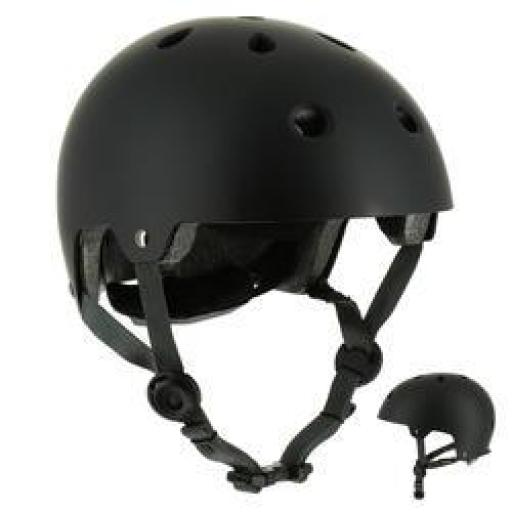with helmet: (26, 42, 490, 478)
